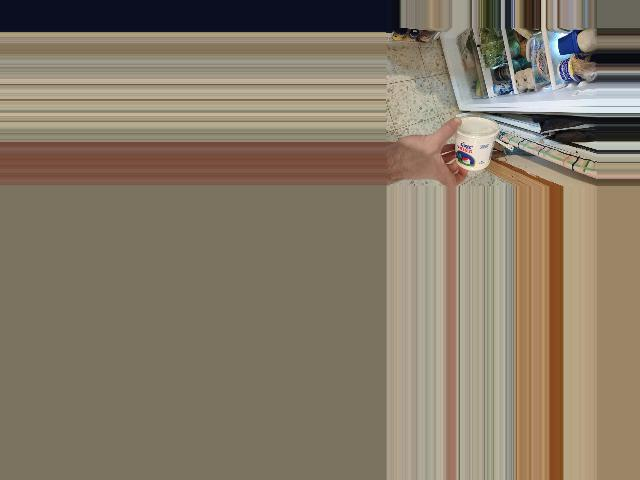cotage: (447, 116, 498, 172)
